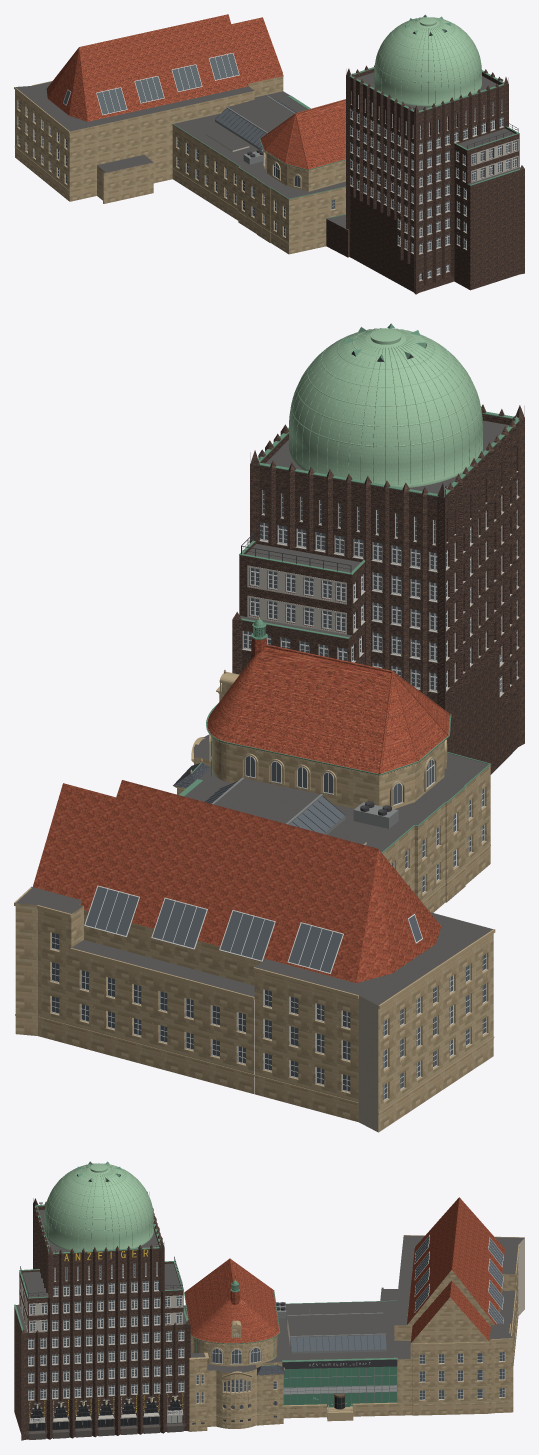
Rendered from anzeiger.glb.
3 renders of one model, top to bottom at view 1: azimuth 30°, elevation 25°; view 2: azimuth 150°, elevation 25°; view 3: azimuth 270°, elevation 25°, orthographic. The views are drawn at different scales.
Visible parts, largest first — view 1: anz_shell, bad_shell, bad_roof, anz_dome, anz_windows_nocol, anz_detail_nocol, bad_roof_detail_nocol, anz_dome_detail_nocol, bad_windows_nocol, bad_detail_nocol; view 2: bad_shell, bad_roof, anz_shell, anz_dome, bad_roof_detail_nocol, anz_windows_nocol, anz_detail_nocol, bad_windows_nocol, anz_dome_detail_nocol, bad_detail_nocol; view 3: bad_shell, anz_shell, bad_roof, anz_dome, anz_detail_nocol, anz_windows_nocol, bad_detail_nocol, bad_windows_nocol, bad_roof_detail_nocol, anz_dome_detail_nocol, anz_letters_nocol.
Part boxes in pixels (left/top/right/bottom): anz_shell: left=326, top=65, right=524, bottom=294; bad_shell: left=14, top=73, right=345, bottom=254; bad_roof: left=46, top=14, right=345, bottom=169; anz_dome: left=374, top=17, right=481, bottom=106; anz_windows_nocol: left=350, top=91, right=517, bottom=280; anz_detail_nocol: left=346, top=69, right=523, bottom=286; bad_roof_detail_nocol: left=63, top=53, right=345, bottom=170; anz_dome_detail_nocol: left=374, top=14, right=481, bottom=103; bad_windows_nocol: left=18, top=101, right=335, bottom=236; bad_detail_nocol: left=14, top=95, right=345, bottom=244; bad_shell: left=14, top=683, right=495, bottom=1132; bad_roof: left=32, top=619, right=449, bottom=983; anz_shell: left=232, top=404, right=524, bottom=774; anz_dome: left=288, top=328, right=482, bottom=487; bad_roof_detail_nocol: left=84, top=611, right=451, bottom=973; anz_windows_nocol: left=242, top=479, right=517, bottom=694; anz_detail_nocol: left=234, top=405, right=524, bottom=732; bad_windows_nocol: left=51, top=737, right=486, bottom=1100; anz_dome_detail_nocol: left=289, top=323, right=482, bottom=484; bad_detail_nocol: left=15, top=670, right=494, bottom=1114; bad_shell: left=183, top=1235, right=524, bottom=1431; anz_shell: left=14, top=1192, right=190, bottom=1440; bad_roof: left=185, top=1197, right=504, bottom=1375; anz_dome: left=44, top=1163, right=153, bottom=1251; anz_detail_nocol: left=20, top=1192, right=189, bottom=1434; anz_windows_nocol: left=28, top=1262, right=184, bottom=1399; bad_detail_nocol: left=190, top=1302, right=518, bottom=1424; bad_windows_nocol: left=192, top=1333, right=505, bottom=1424; bad_roof_detail_nocol: left=184, top=1235, right=503, bottom=1365; anz_dome_detail_nocol: left=44, top=1161, right=153, bottom=1250; anz_letters_nocol: left=29, top=1249, right=183, bottom=1421.
Bounding box in the file's own units: 61.45 × 52.49 × 99.2.
Materials: 25 (12 with a texture image).
